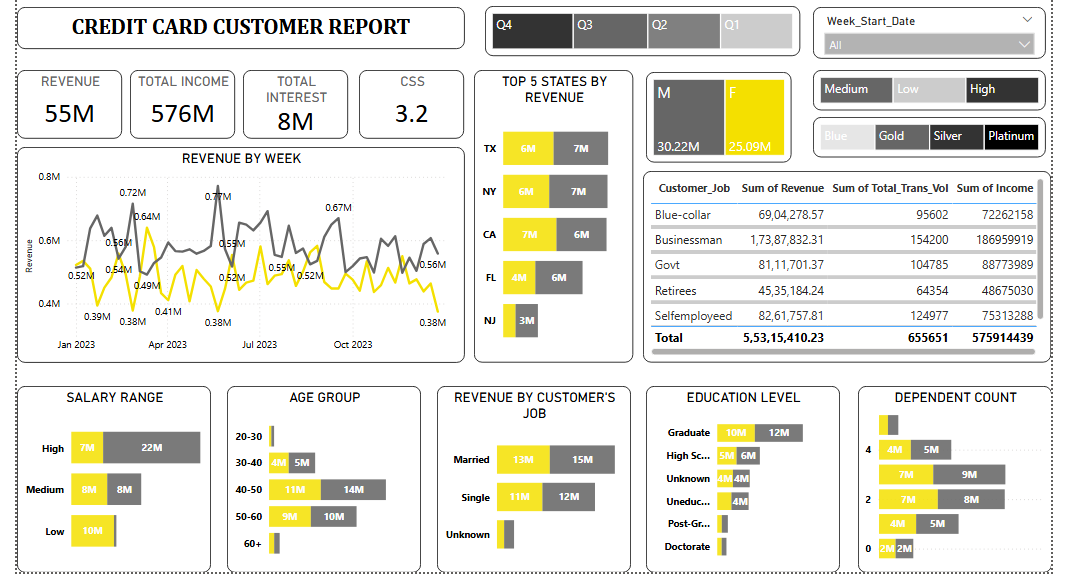

The page's visual inventory and layout, read from the dashboard file:
{"tool":"powerbi","page":{"name":"Credit_Card_Customer","canvas":[1280,720],"ordinal":1},"visuals":[{"type":"textbox","box":[0,21.2,553.6,51.6],"z":0},{"type":"tableEx","title":"REVENUE BY USE TYPE","fields":{"Values":["customer_db.Customer_Job","Sum(credit_card_db.Revenue)","Sum(credit_card_db.Total_Trans_Vol)","Sum(customer_db.Income)"]},"box":[775,224.5,505,236.6],"z":1000},{"type":"slicer","fields":{"Values":["credit_card_db.Week_Start_Date"]},"box":[984.3,21.2,288.2,63.7],"z":2000},{"type":"treemap","fields":{"Group":["credit_card_db.Qtr"],"Values":["Avg(credit_card_db.Client_Num)"]},"box":[579.3,19.7,389.8,62.2],"z":3000},{"type":"treemap","fields":{"Group":["customer_db.Gender"],"Values":["Sum(credit_card_db.Revenue)"]},"box":[778,101.6,180.5,112.2],"z":4000},{"type":"treemap","fields":{"Group":["customer_db.Income_Range"],"Values":["Avg(credit_card_db.Client_Num)"]},"box":[984.3,98.6,288.2,50],"z":5000},{"type":"treemap","fields":{"Group":["credit_card_db.Card_Category"],"Values":["Max(credit_card_db.Client_Num)"]},"box":[984.3,157.7,288.2,50],"z":6000},{"type":"card","title":"REVENUE","fields":{"Values":["Sum(credit_card_db.Revenue)"]},"box":[0,98.6,130.4,84.9],"z":7000},{"type":"card","title":"TOTAL INCOME","fields":{"Values":["Sum(customer_db.Income)"]},"box":[139.5,98.6,130.4,84.9],"z":8000},{"type":"card","title":"TOTAL INTEREST","fields":{"Values":["Sum(credit_card_db.Interest_Earned)"]},"box":[279.1,98.6,130.4,84.9],"z":9000},{"type":"card","title":"CSS","fields":{"Values":["Avg(customer_db.Cust_Satisfaction_Score)"]},"box":[423.1,98.6,130.4,84.9],"z":10000},{"type":"barChart","title":"SALARY RANGE","fields":{"Y":["Sum(credit_card_db.Revenue)"],"Category":["customer_db.Income_Range"],"Series":["customer_db.Gender"]},"box":[0,489.9,240,230.5],"z":11000},{"type":"lineChart","title":"REVENUE BY WEEK","fields":{"Y":["Sum(credit_card_db.Revenue)"],"Series":["customer_db.Gender"],"Category":["credit_card_db.Week_Start_Date.Variation.Date Hierarchy.Year","credit_card_db.Week_Start_Date.Variation.Date Hierarchy.Month","credit_card_db.Week_Start_Date.Variation.Date Hierarchy.Day"]},"box":[0,194.1,553.6,266.9],"z":12000},{"type":"barChart","title":" AGE GROUP","fields":{"Y":["Sum(credit_card_db.Revenue)"],"Category":["customer_db.Age_Group"],"Series":["customer_db.Gender"]},"box":[259.3,489.9,239.6,230.5],"z":13000},{"type":"barChart","title":"REVENUE BY CUSTOMER''S JOB","fields":{"Y":["Sum(credit_card_db.Revenue)"],"Category":["customer_db.Marital_Status"],"Series":["customer_db.Gender"]},"box":[520.2,489.9,239.6,230.5],"z":14000},{"type":"barChart","title":" EDUCATION LEVEL","fields":{"Y":["Sum(credit_card_db.Revenue)"],"Category":["customer_db.Education_Level"],"Series":["customer_db.Gender"]},"box":[778,489.9,239.6,230.5],"z":15000},{"type":"barChart","title":"TOP 5 STATES BY REVENUE","fields":{"Y":["Sum(credit_card_db.Revenue)"],"Category":["customer_db.state_cd"],"Series":["customer_db.Gender"]},"box":[565.7,98.6,197.2,362.5],"z":16000},{"type":"barChart","title":"DEPENDENT COUNT","fields":{"Y":["Sum(credit_card_db.Revenue)"],"Category":["customer_db.Dependent_Count"],"Series":["customer_db.Gender"]},"box":[1040.4,489.9,239.6,230.5],"z":17000}]}

Visuals, with their boxes in screenshot pixels (x1, y1, x2, y2):
textbox: bbox(6, 1, 460, 43)
"REVENUE BY USE TYPE" tableEx: bbox(642, 167, 1056, 362)
slicer - credit_card_db.Week_Start_Date: bbox(813, 1, 1050, 53)
treemap - credit_card_db.Qtr x Avg(credit_card_db.Client_Num): bbox(481, 0, 801, 50)
treemap - customer_db.Gender x Sum(credit_card_db.Revenue): bbox(644, 67, 792, 159)
treemap - customer_db.Income_Range x Avg(credit_card_db.Client_Num): bbox(813, 64, 1050, 105)
treemap - credit_card_db.Card_Category x Max(credit_card_db.Client_Num): bbox(813, 113, 1050, 154)
"REVENUE" card: bbox(6, 64, 113, 134)
"TOTAL INCOME" card: bbox(120, 64, 227, 134)
"TOTAL INTEREST" card: bbox(235, 64, 342, 134)
"CSS" card: bbox(353, 64, 460, 134)
"SALARY RANGE" barChart: bbox(6, 385, 203, 574)
"REVENUE BY WEEK" lineChart: bbox(6, 143, 460, 362)
" AGE GROUP" barChart: bbox(218, 385, 415, 574)
"REVENUE BY CUSTOMER''S JOB" barChart: bbox(432, 385, 629, 574)
" EDUCATION LEVEL" barChart: bbox(644, 385, 841, 574)
"TOP 5 STATES BY REVENUE" barChart: bbox(470, 64, 632, 362)
"DEPENDENT COUNT" barChart: bbox(859, 385, 1056, 574)
